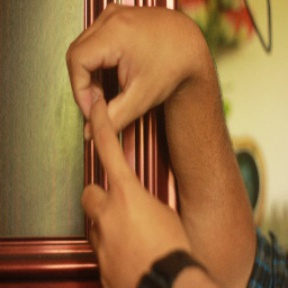Q: (66, 4, 212, 249)
